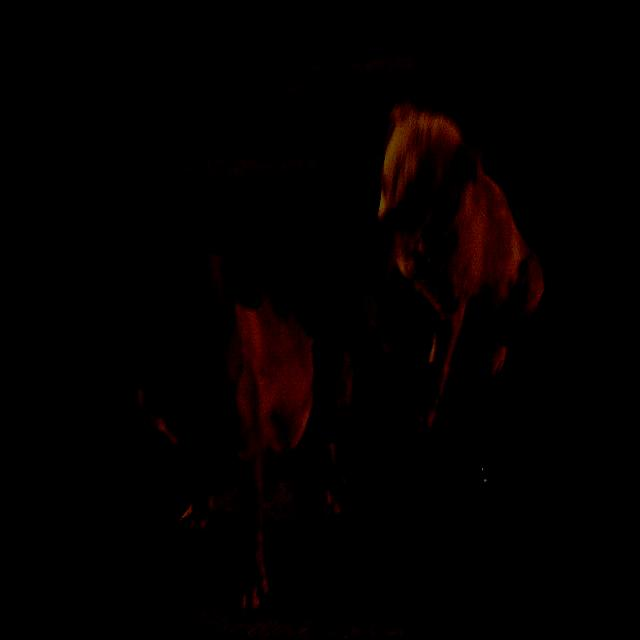Dog: (128, 204, 367, 601), (363, 77, 538, 413)
